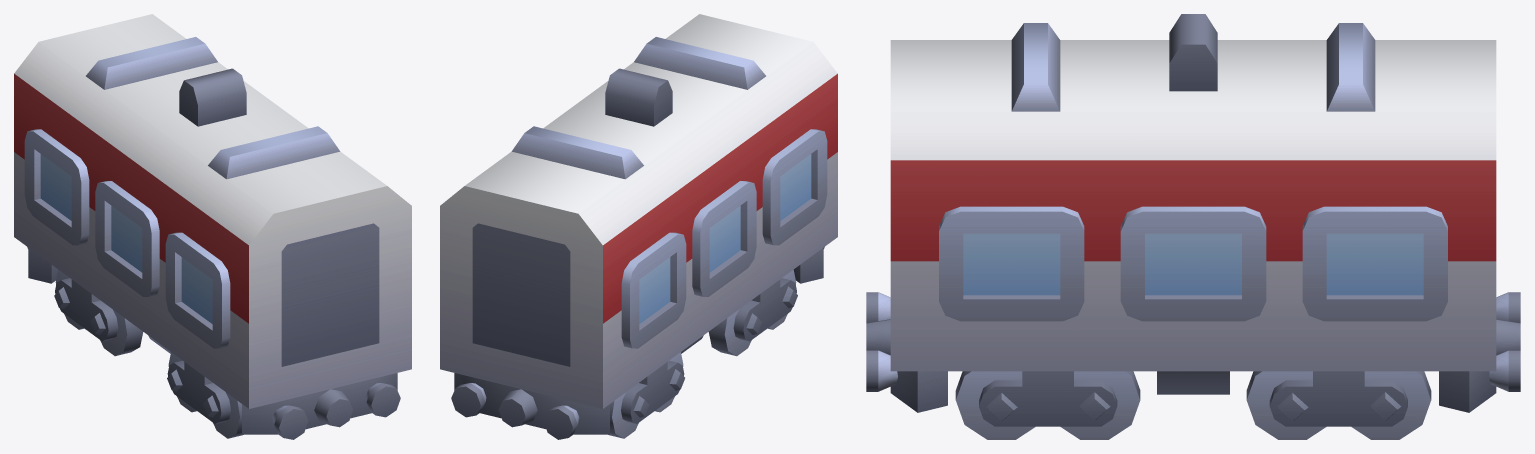
File: train-cityC.glb
The picture shows the model from 3 angles, left to right: view 1: azimuth 30°, elevation 25°; view 2: azimuth 150°, elevation 25°; view 3: azimuth 270°, elevation 25°; orthographic projection. The views are drawn at different scales.
Parts seen in each view (by area): view 1: train-electric-city-c; view 2: train-electric-city-c; view 3: train-electric-city-c.
Part boxes in pixels (box(x1,y1,x2,y2)): train-electric-city-c: box(14, 14, 411, 439); train-electric-city-c: box(440, 14, 837, 439); train-electric-city-c: box(866, 14, 1520, 439).
Bounding box in the file's own units: 1.1 × 1.68 × 2.7.
1 material, 1 textured.
